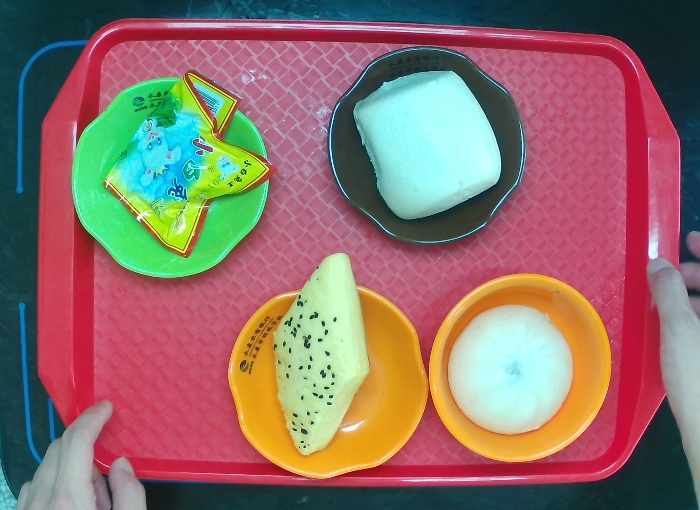YKMZ-Ju_Se_Ao_Bian_Wan: (227, 283, 427, 479)
YKMZ-Ju_Se_Yuan_Wan: (425, 273, 612, 464)
YKMZ-Ka_Fei_Ao_Bian_Wan: (328, 46, 525, 246)
YKMZ-Lv_Se_Ao_Bian_Wan: (68, 78, 271, 278)
